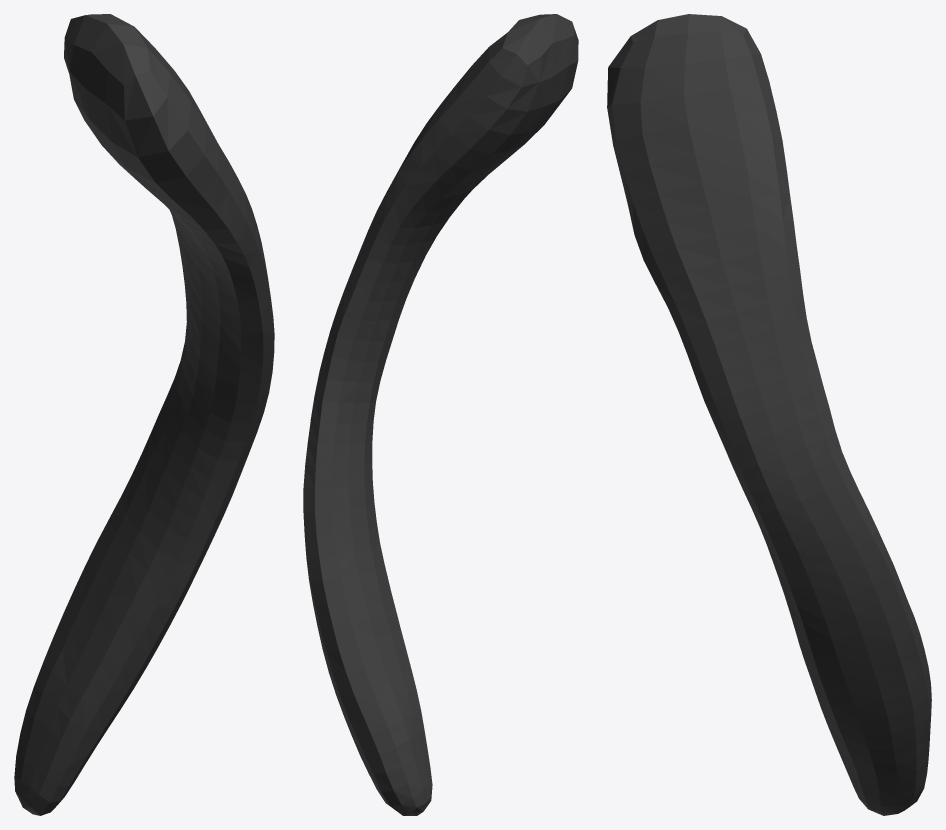
Rendered from Coll_lat_lig.glb.
3 views of the same model, side by side, from view 1: azimuth 30°, elevation 25°; view 2: azimuth 150°, elevation 25°; view 3: azimuth 270°, elevation 25° (orthographic). The views are drawn at different scales.
Visible parts, largest first — view 1: Coll_lat_lig; view 2: Coll_lat_lig; view 3: Coll_lat_lig.
Part boxes in pixels (box(x1,y1,x2,y2)): Coll_lat_lig: box(14, 14, 274, 815); Coll_lat_lig: box(303, 14, 578, 815); Coll_lat_lig: box(607, 14, 931, 815).
Bounding box in the file's own units: 0.3858 × 1.47 × 0.5516.
Materials: 1 (1 with a texture image).
